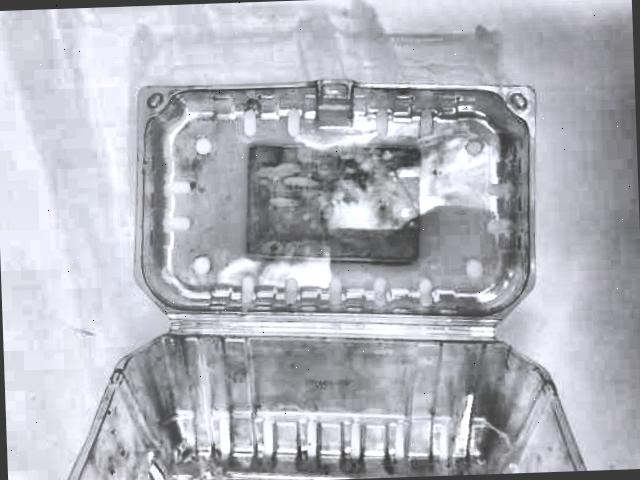Plastic: (52, 61, 585, 480)
